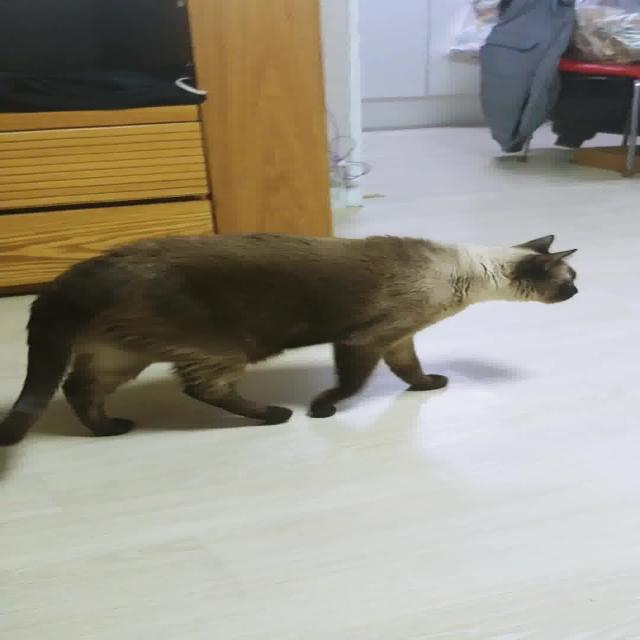cat: (0, 225, 601, 447)
